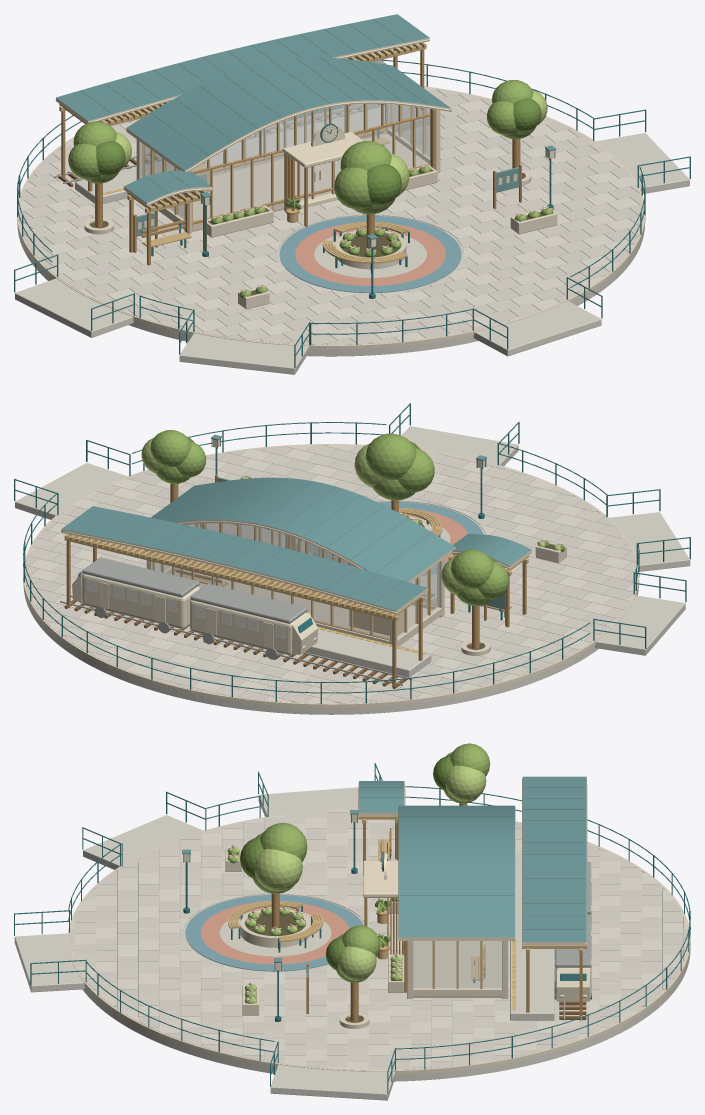
File: transport.glb
3 renders of one model, top to bottom at view 1: azimuth 30°, elevation 25°; view 2: azimuth 150°, elevation 25°; view 3: azimuth 270°, elevation 25°, orthographic.
Visible parts, largest first — view 1: Site_Components__WarmLimestonePaver0, Site_Components__WarmLimestonePaver1, Site_Components__WarmLimestonePaver2, Site_Components__stone, ModernYuanliStation__roof, ModernYuanliStation__Clear warm architectural glazing, SidePlatformCanopy__roof, Landscape_Components__leaf, Site_Components__rail, ModernYuanliStation__floor, ModernYuanliStation__woodLight, Landscape_Components__Muted blue court (+25 smaller); view 2: Site_Components__WarmLimestonePaver0, Site_Components__WarmLimestonePaver2, Site_Components__WarmLimestonePaver1, Site_Components__stone, ModernYuanliStation__roof, SidePlatformCanopy__roof, Landscape_Components__leaf, PlatformAndDisplayTrack__cream, Site_Components__rail, PlatformAndDisplayTrack__gray, ModernYuanliStation__Clear warm architectural glazing, Site_Components__cream (+20 smaller); view 3: Site_Components__WarmLimestonePaver2, Site_Components__WarmLimestonePaver0, Site_Components__WarmLimestonePaver1, Site_Components__stone, ModernYuanliStation__roof, SidePlatformCanopy__roof, Site_Components__rail, Landscape_Components__leaf, Landscape_Components__leafLight, ModernYuanliStation__Clear warm architectural glazing, Site_Components__cream, ModernYuanliStation__floor (+20 smaller).
Boxes of the visible parts, box(x1,y1,x2,y2) form: Site_Components__WarmLimestonePaver0: box(23, 89, 643, 344); Site_Components__WarmLimestonePaver1: box(19, 87, 639, 341); Site_Components__WarmLimestonePaver2: box(19, 89, 643, 344); Site_Components__stone: box(15, 133, 689, 374); ModernYuanliStation__roof: box(126, 57, 450, 170); ModernYuanliStation__Clear warm architectural glazing: box(142, 103, 430, 221); SidePlatformCanopy__roof: box(56, 14, 429, 120); Landscape_Components__leaf: box(68, 80, 553, 296); Site_Components__rail: box(14, 58, 690, 367); ModernYuanliStation__floor: box(166, 133, 428, 221); ModernYuanliStation__woodLight: box(144, 104, 425, 230); Landscape_Components__Muted blue court: box(279, 216, 461, 293); Site_Components__WarmLimestonePaver0: box(25, 444, 637, 703); Site_Components__WarmLimestonePaver2: box(25, 446, 635, 703); Site_Components__WarmLimestonePaver1: box(28, 444, 635, 703); Site_Components__stone: box(15, 426, 690, 714); ModernYuanliStation__roof: box(151, 477, 454, 581); SidePlatformCanopy__roof: box(61, 506, 427, 610); Landscape_Components__leaf: box(150, 430, 562, 605); PlatformAndDisplayTrack__cream: box(72, 572, 318, 655); Site_Components__rail: box(14, 403, 690, 703); PlatformAndDisplayTrack__gray: box(60, 557, 410, 685); ModernYuanliStation__Clear warm architectural glazing: box(154, 523, 439, 639); Site_Components__cream: box(23, 444, 639, 707); Site_Components__WarmLimestonePaver2: box(69, 809, 688, 1069); Site_Components__WarmLimestonePaver0: box(69, 810, 688, 1070); Site_Components__WarmLimestonePaver1: box(71, 809, 687, 1070); Site_Components__stone: box(14, 787, 690, 1100); ModernYuanliStation__roof: box(398, 805, 514, 937); SidePlatformCanopy__roof: box(522, 776, 586, 941); Site_Components__rail: box(14, 763, 690, 1093); Landscape_Components__leaf: box(227, 743, 490, 1003); Landscape_Components__leafLight: box(234, 765, 486, 1003); ModernYuanliStation__Clear warm architectural glazing: box(413, 941, 501, 988); Site_Components__cream: box(67, 808, 690, 1074); ModernYuanliStation__floor: box(413, 941, 501, 987).
Size of the model in its own units: 29.59 by 5.3 by 27.42.
